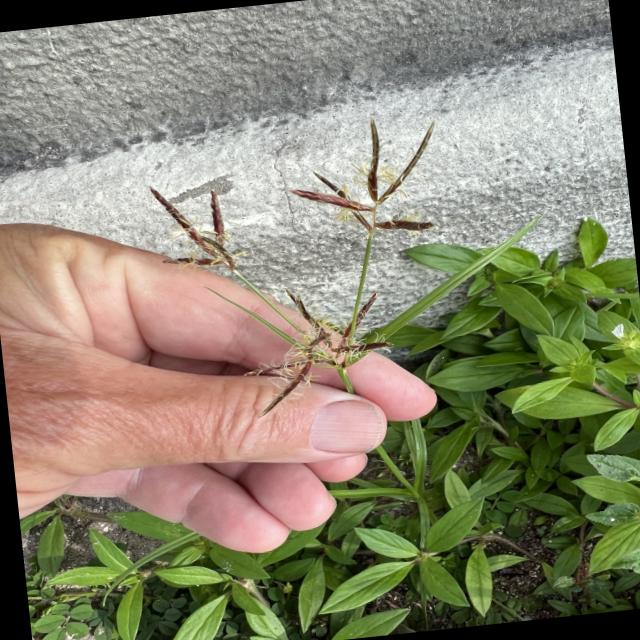cyperus: (130, 104, 483, 415)
